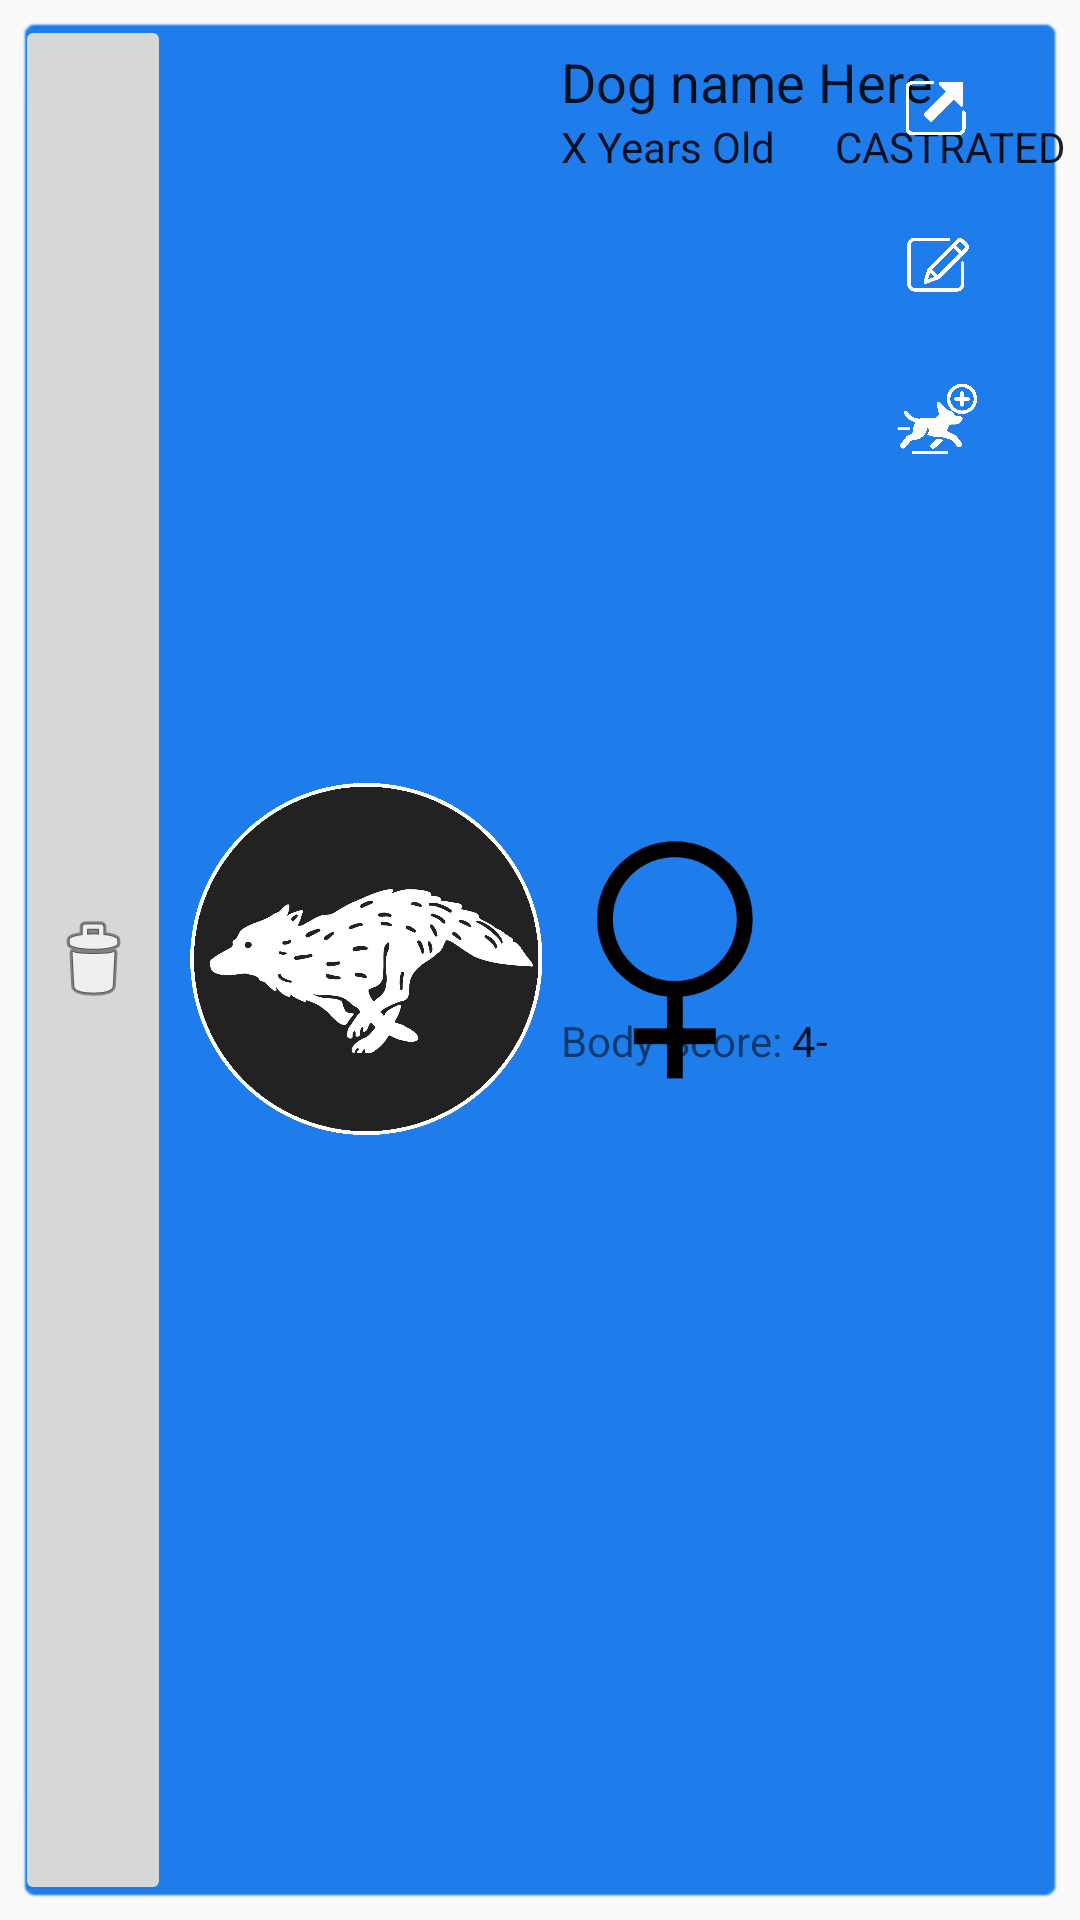

Icon bounding boxes for this 1080×1920 phone screenshot, format (x1, y1, x2, y2):
addruncustomicon: (897, 384, 977, 454)
editdogcustomicon: (907, 238, 969, 292)
